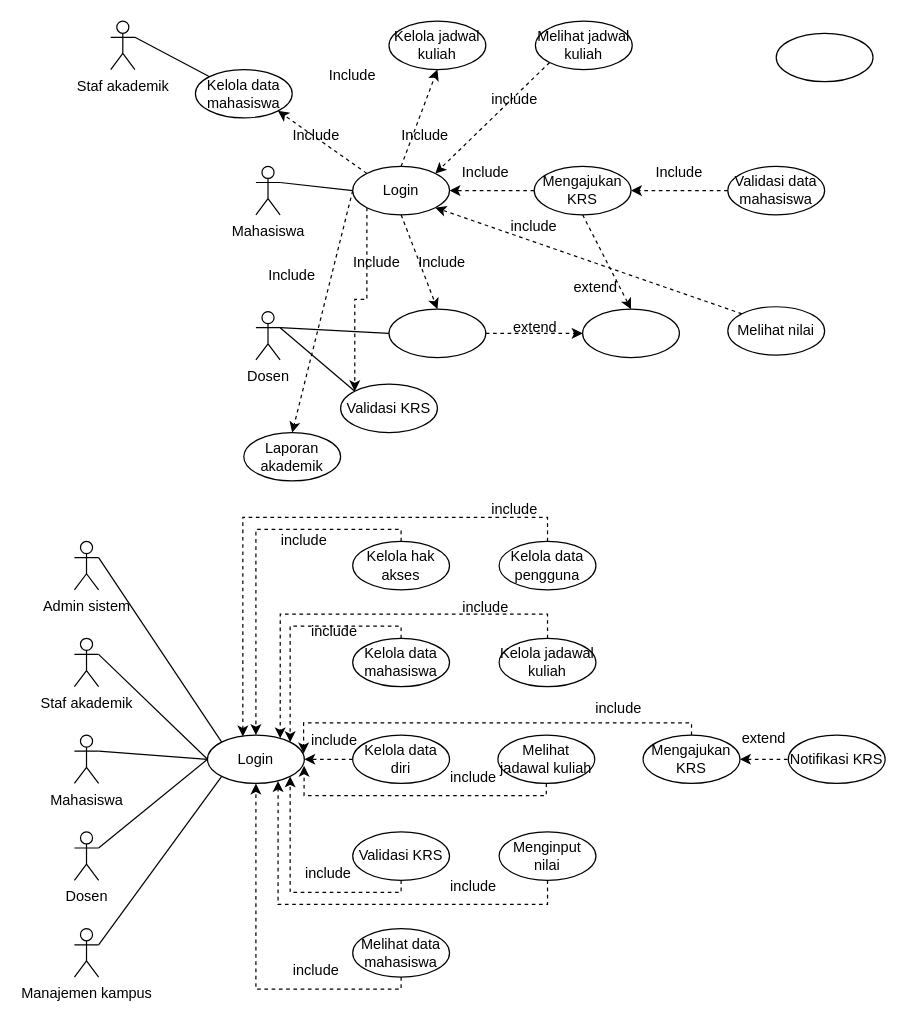
The diagram is 906 pixels wide and 1024 high, and some of its shapes have lost their labels. Here are the shapes that lost their labels. From the top down, the centre of each, then its label:
the point at 824,57: Kelola akun pengguna
the point at 437,333: Input nilai
the point at 630,333: Notifikasi akademik
